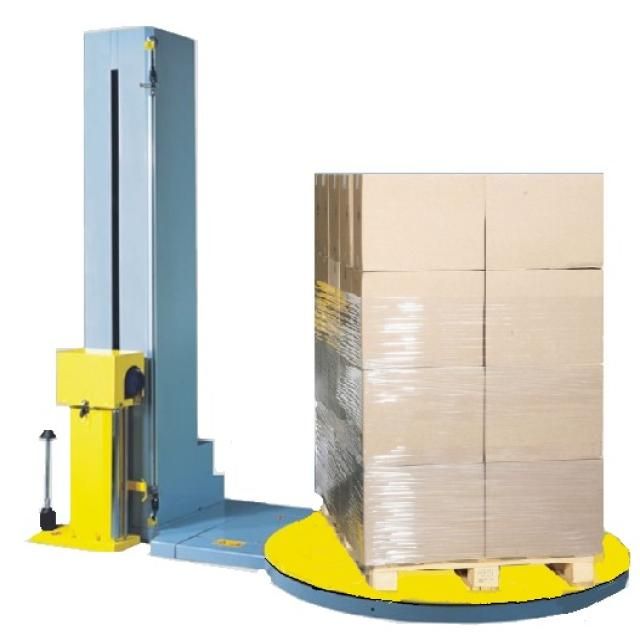cardboxes: (358, 173, 486, 272), (485, 456, 606, 557), (363, 466, 488, 563), (362, 272, 486, 367), (486, 172, 604, 271), (363, 370, 484, 465), (486, 363, 605, 457), (488, 271, 604, 363)
